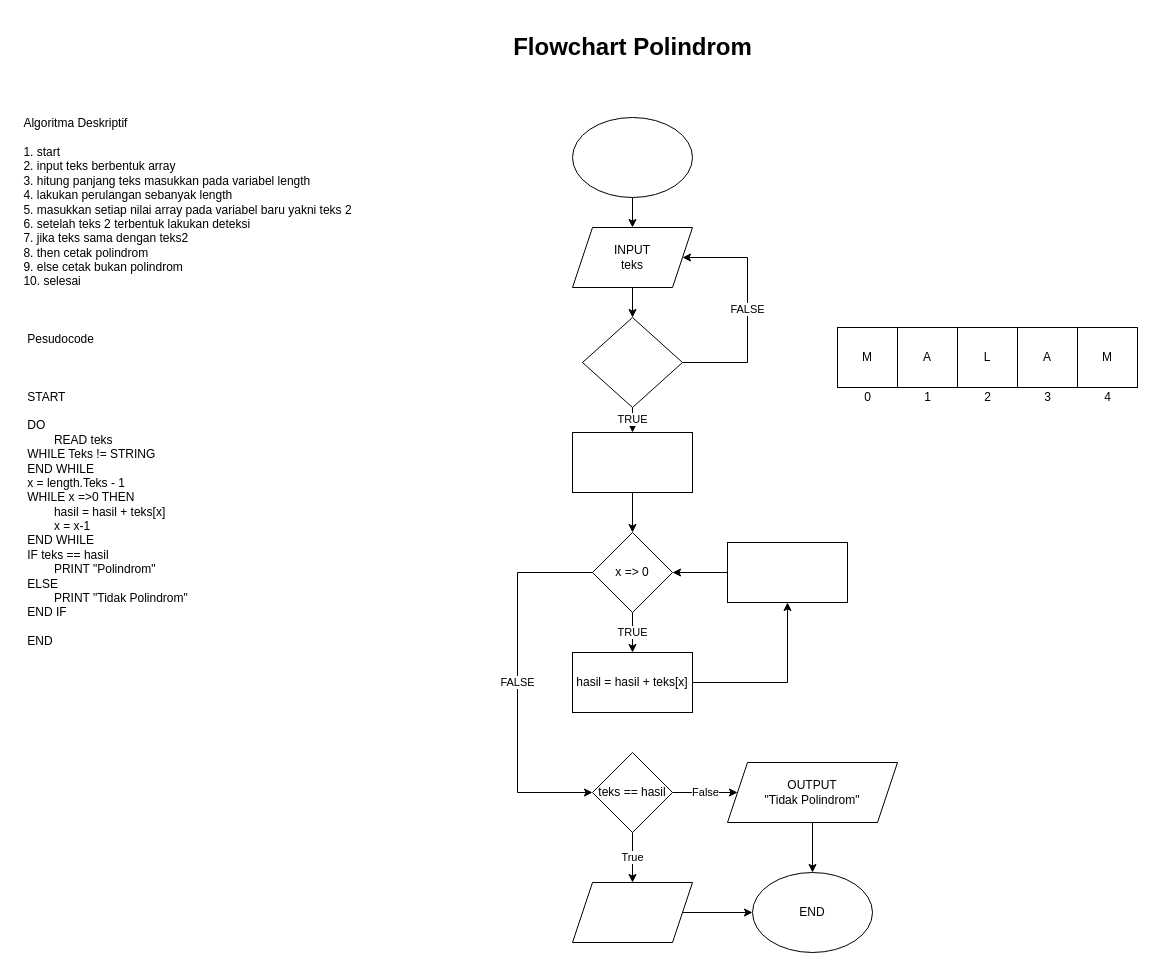
Some shapes in this 1155 by 970 pixel diagram are drawn without their labels. The centre of each missing label's shape, as x and y in pixels:
OUTPUT "Polindrom": (632,912)
START: (632,157)
teks == STRING: (632,362)
x = length.Teks -1: (632,462)
x = x-1: (787,572)
